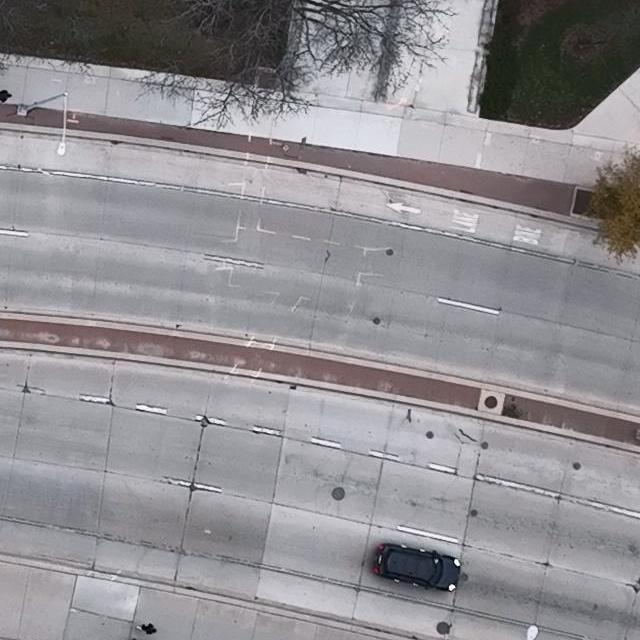car: (374, 543, 461, 592)
